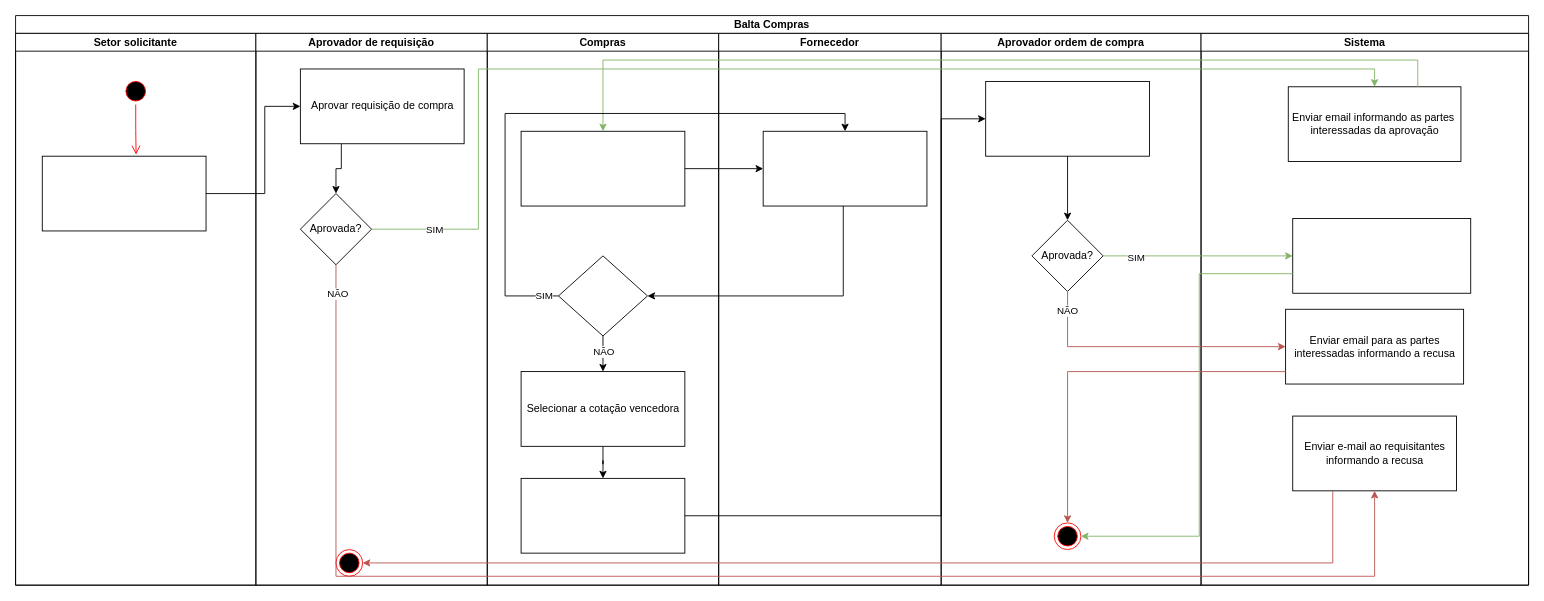
The diagram is 1544 pixels wide and 601 high, and some of its shapes have lost their labels. The centre of each missing label's shape, as x and y in pixels:
"+ Fornecedor?" belongs at [602,295].
"Abrir requisição de compra" belongs at [123,193].
"Aprovar ordem de compra" belongs at [1067,118].
"Enviar ordem de compra por email para o fornecedor" belongs at [1381,255].
"Gerar cotações" belongs at [602,168].
"Gerar ordem de compra" belongs at [602,515].
"Informar os valores cotados" belongs at [844,168].
